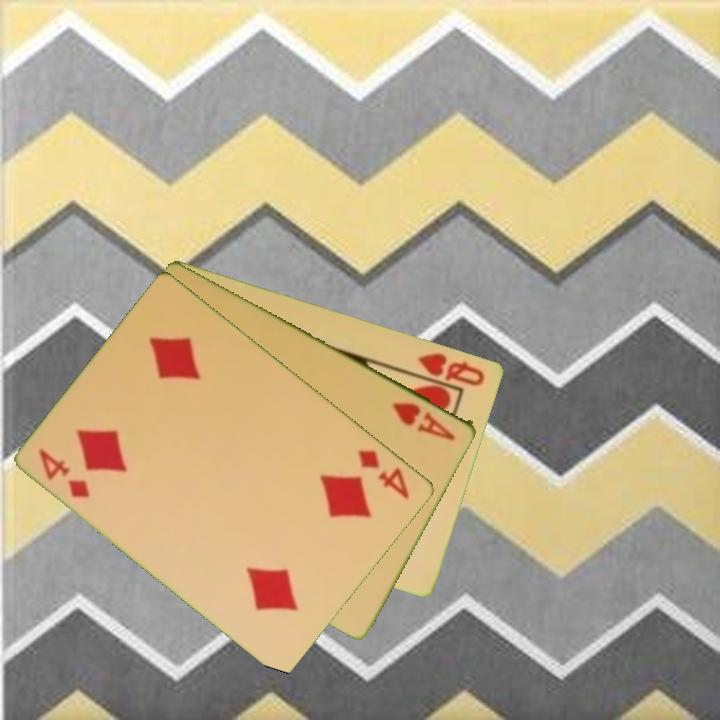4d: (354, 446, 413, 503), (35, 445, 94, 501)
Ah: (389, 398, 459, 444)
Qh: (415, 348, 488, 389)
